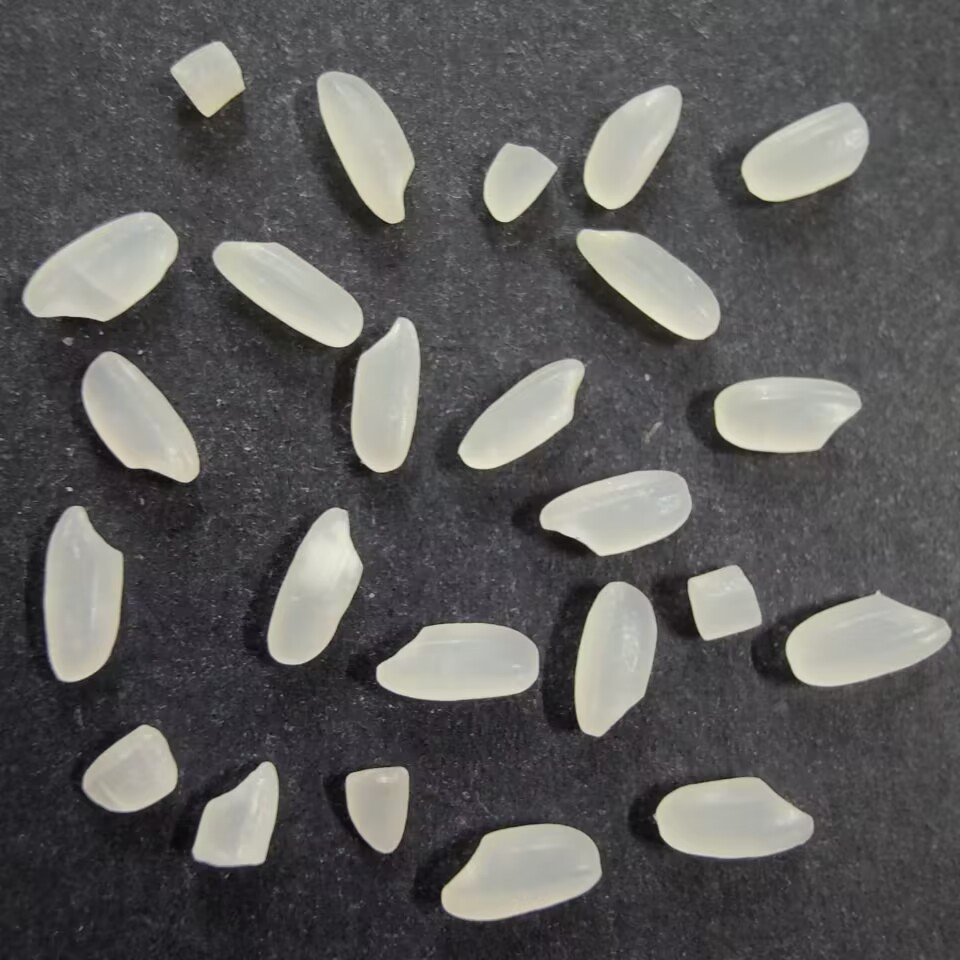broken: (188, 757, 282, 873), (78, 720, 181, 815), (337, 764, 415, 856), (681, 563, 766, 643), (479, 140, 557, 225), (167, 36, 247, 118)
rice: (17, 209, 181, 323), (208, 236, 367, 350), (571, 227, 725, 343), (437, 820, 605, 924), (77, 348, 202, 486), (262, 503, 367, 667), (313, 67, 420, 227), (785, 589, 952, 690), (39, 499, 129, 684), (454, 352, 586, 472), (367, 619, 542, 704), (532, 467, 696, 557), (653, 774, 818, 861), (571, 578, 659, 741), (580, 81, 684, 214), (737, 101, 871, 203), (709, 373, 868, 457), (347, 313, 424, 477)
